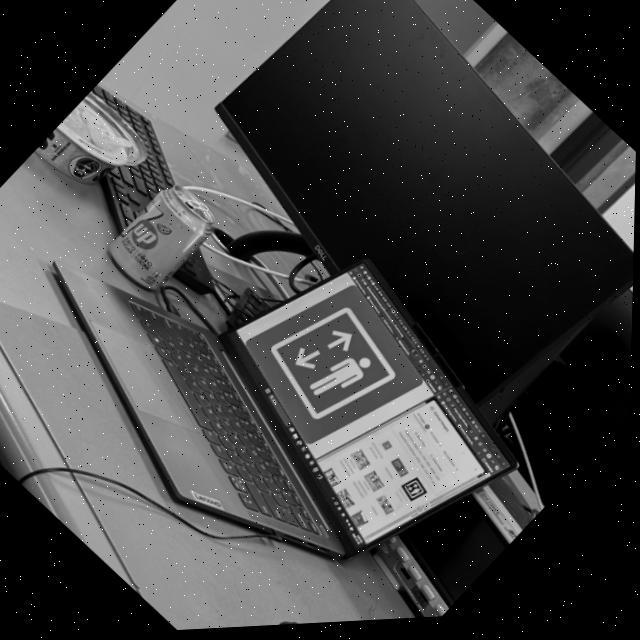elevator: (246, 285, 429, 443)
